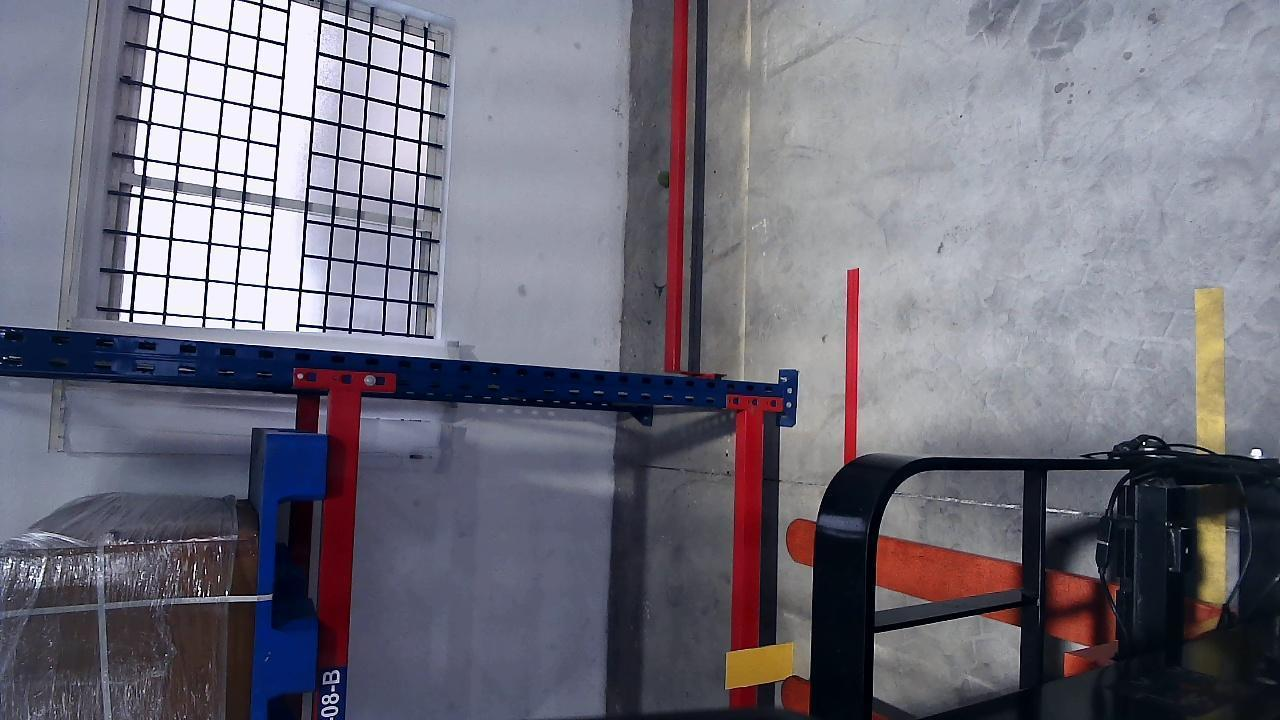red_line: (844, 268, 861, 465)
yellow_line: (1194, 287, 1226, 455)
